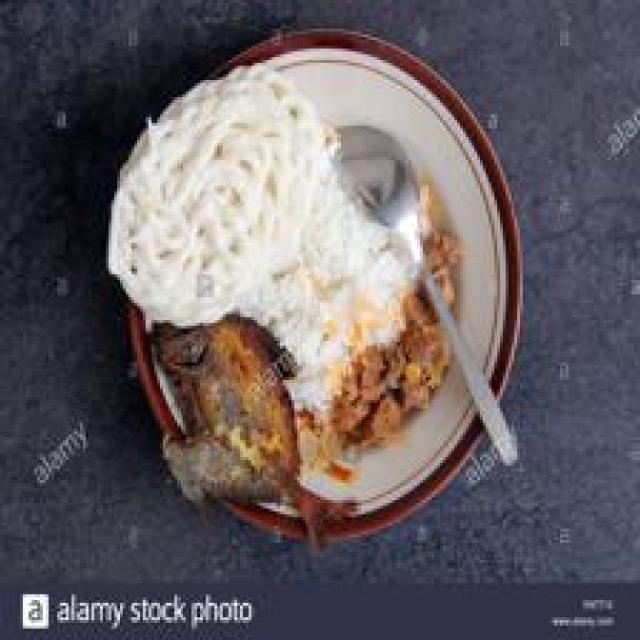Wet Waste: (242, 152, 424, 420)
